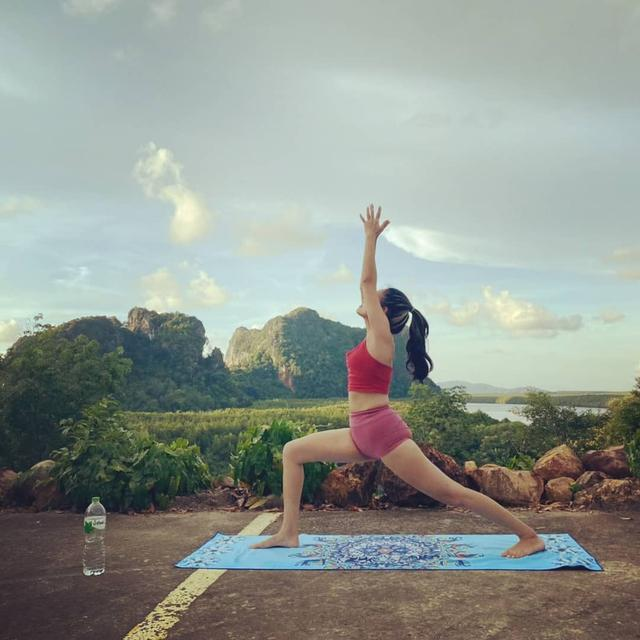Warrior_I: (246, 195, 551, 563)
